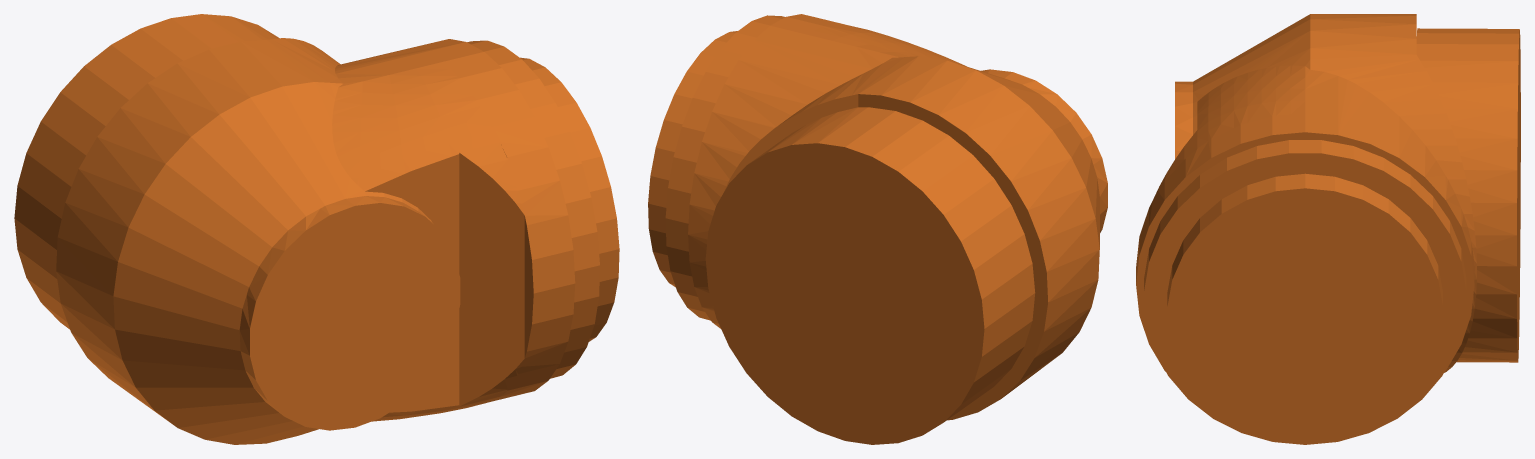
The picture shows the model from 3 angles, left to right: view 1: azimuth 30°, elevation 25°; view 2: azimuth 150°, elevation 25°; view 3: azimuth 270°, elevation 25°; orthographic projection. The views are drawn at different scales.
Parts seen in each view (by area): view 1: link_5; view 2: link_5; view 3: link_5.
Boxes of the visible parts, bbox=[...] form: link_5: bbox=[14, 14, 619, 444]; link_5: bbox=[648, 14, 1107, 444]; link_5: bbox=[1136, 14, 1520, 444].
Size of the model in its own units: 0.2069 by 0.1729 by 0.163.
